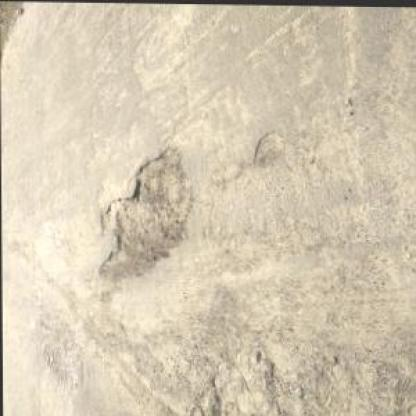pothole: (97, 140, 196, 283), (251, 126, 286, 165)
